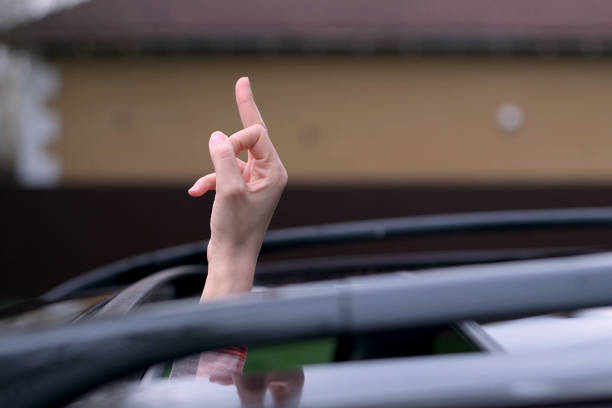insulting_gesture: (187, 75, 290, 267)
